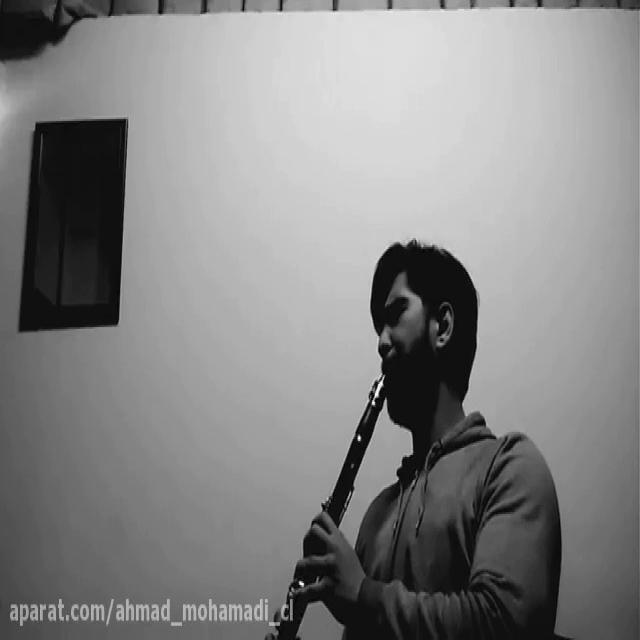Clarinet: (264, 366, 397, 638)
